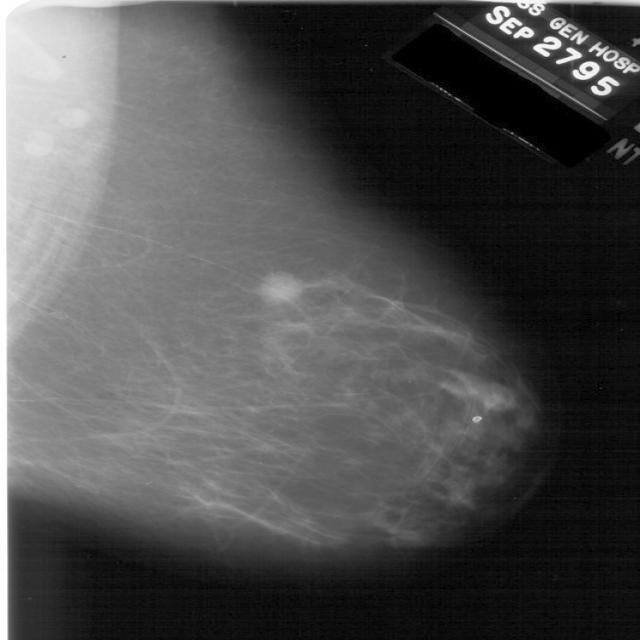tumour: (257, 272, 302, 302)
